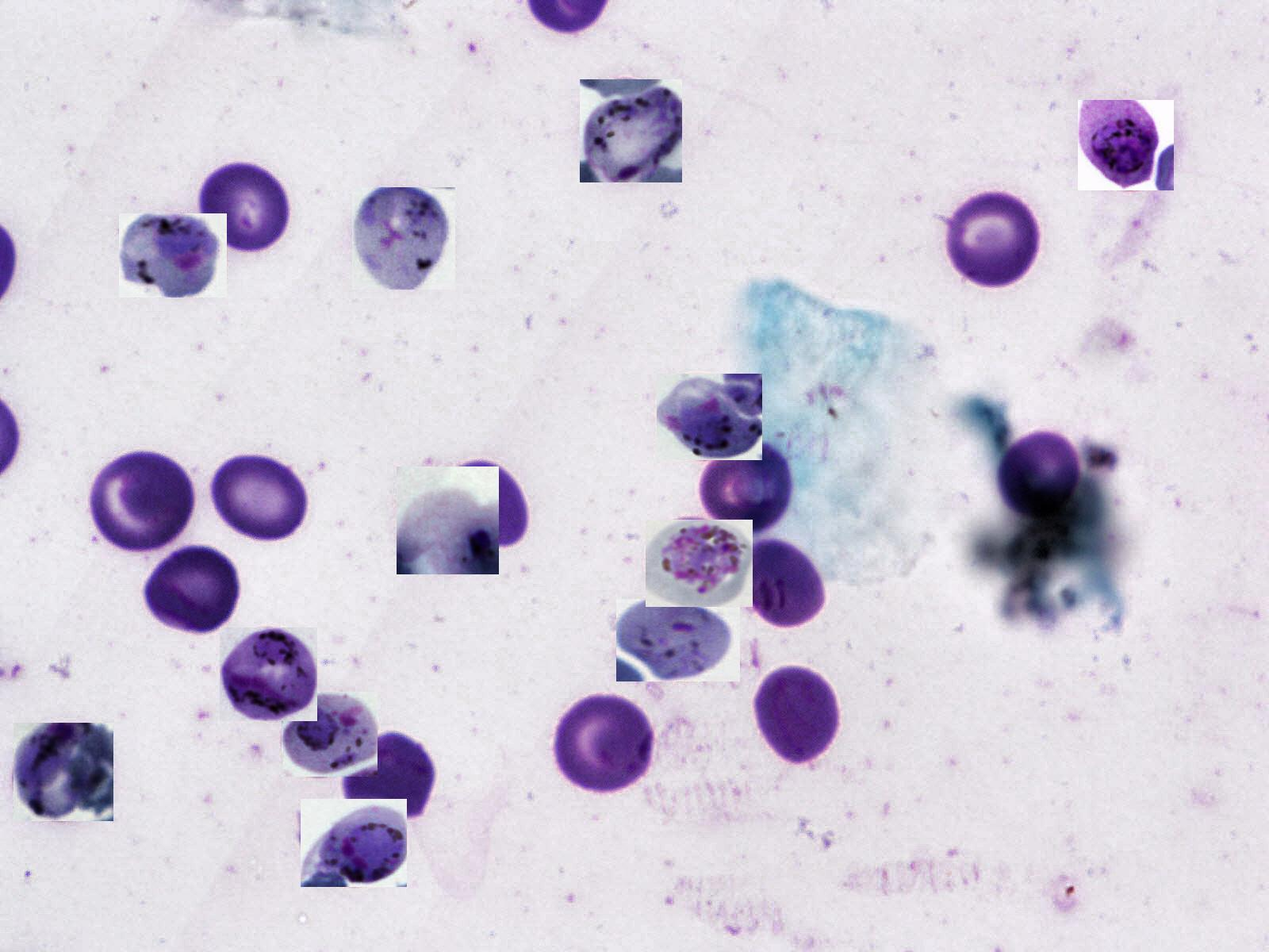Infected: (397, 466, 499, 574), (352, 187, 455, 290), (580, 79, 682, 182), (616, 599, 740, 681), (13, 723, 113, 821), (301, 799, 407, 887), (646, 520, 753, 607), (119, 213, 227, 298), (220, 628, 317, 722), (657, 374, 762, 460), (1078, 100, 1174, 190), (282, 692, 378, 777)
Uninfected: (90, 450, 194, 555), (209, 444, 311, 546), (551, 693, 654, 794), (944, 191, 1046, 290), (753, 660, 845, 767), (141, 545, 243, 634), (697, 443, 794, 532), (198, 162, 290, 255), (343, 732, 435, 821), (735, 536, 824, 628), (995, 430, 1083, 519), (447, 459, 530, 551)
